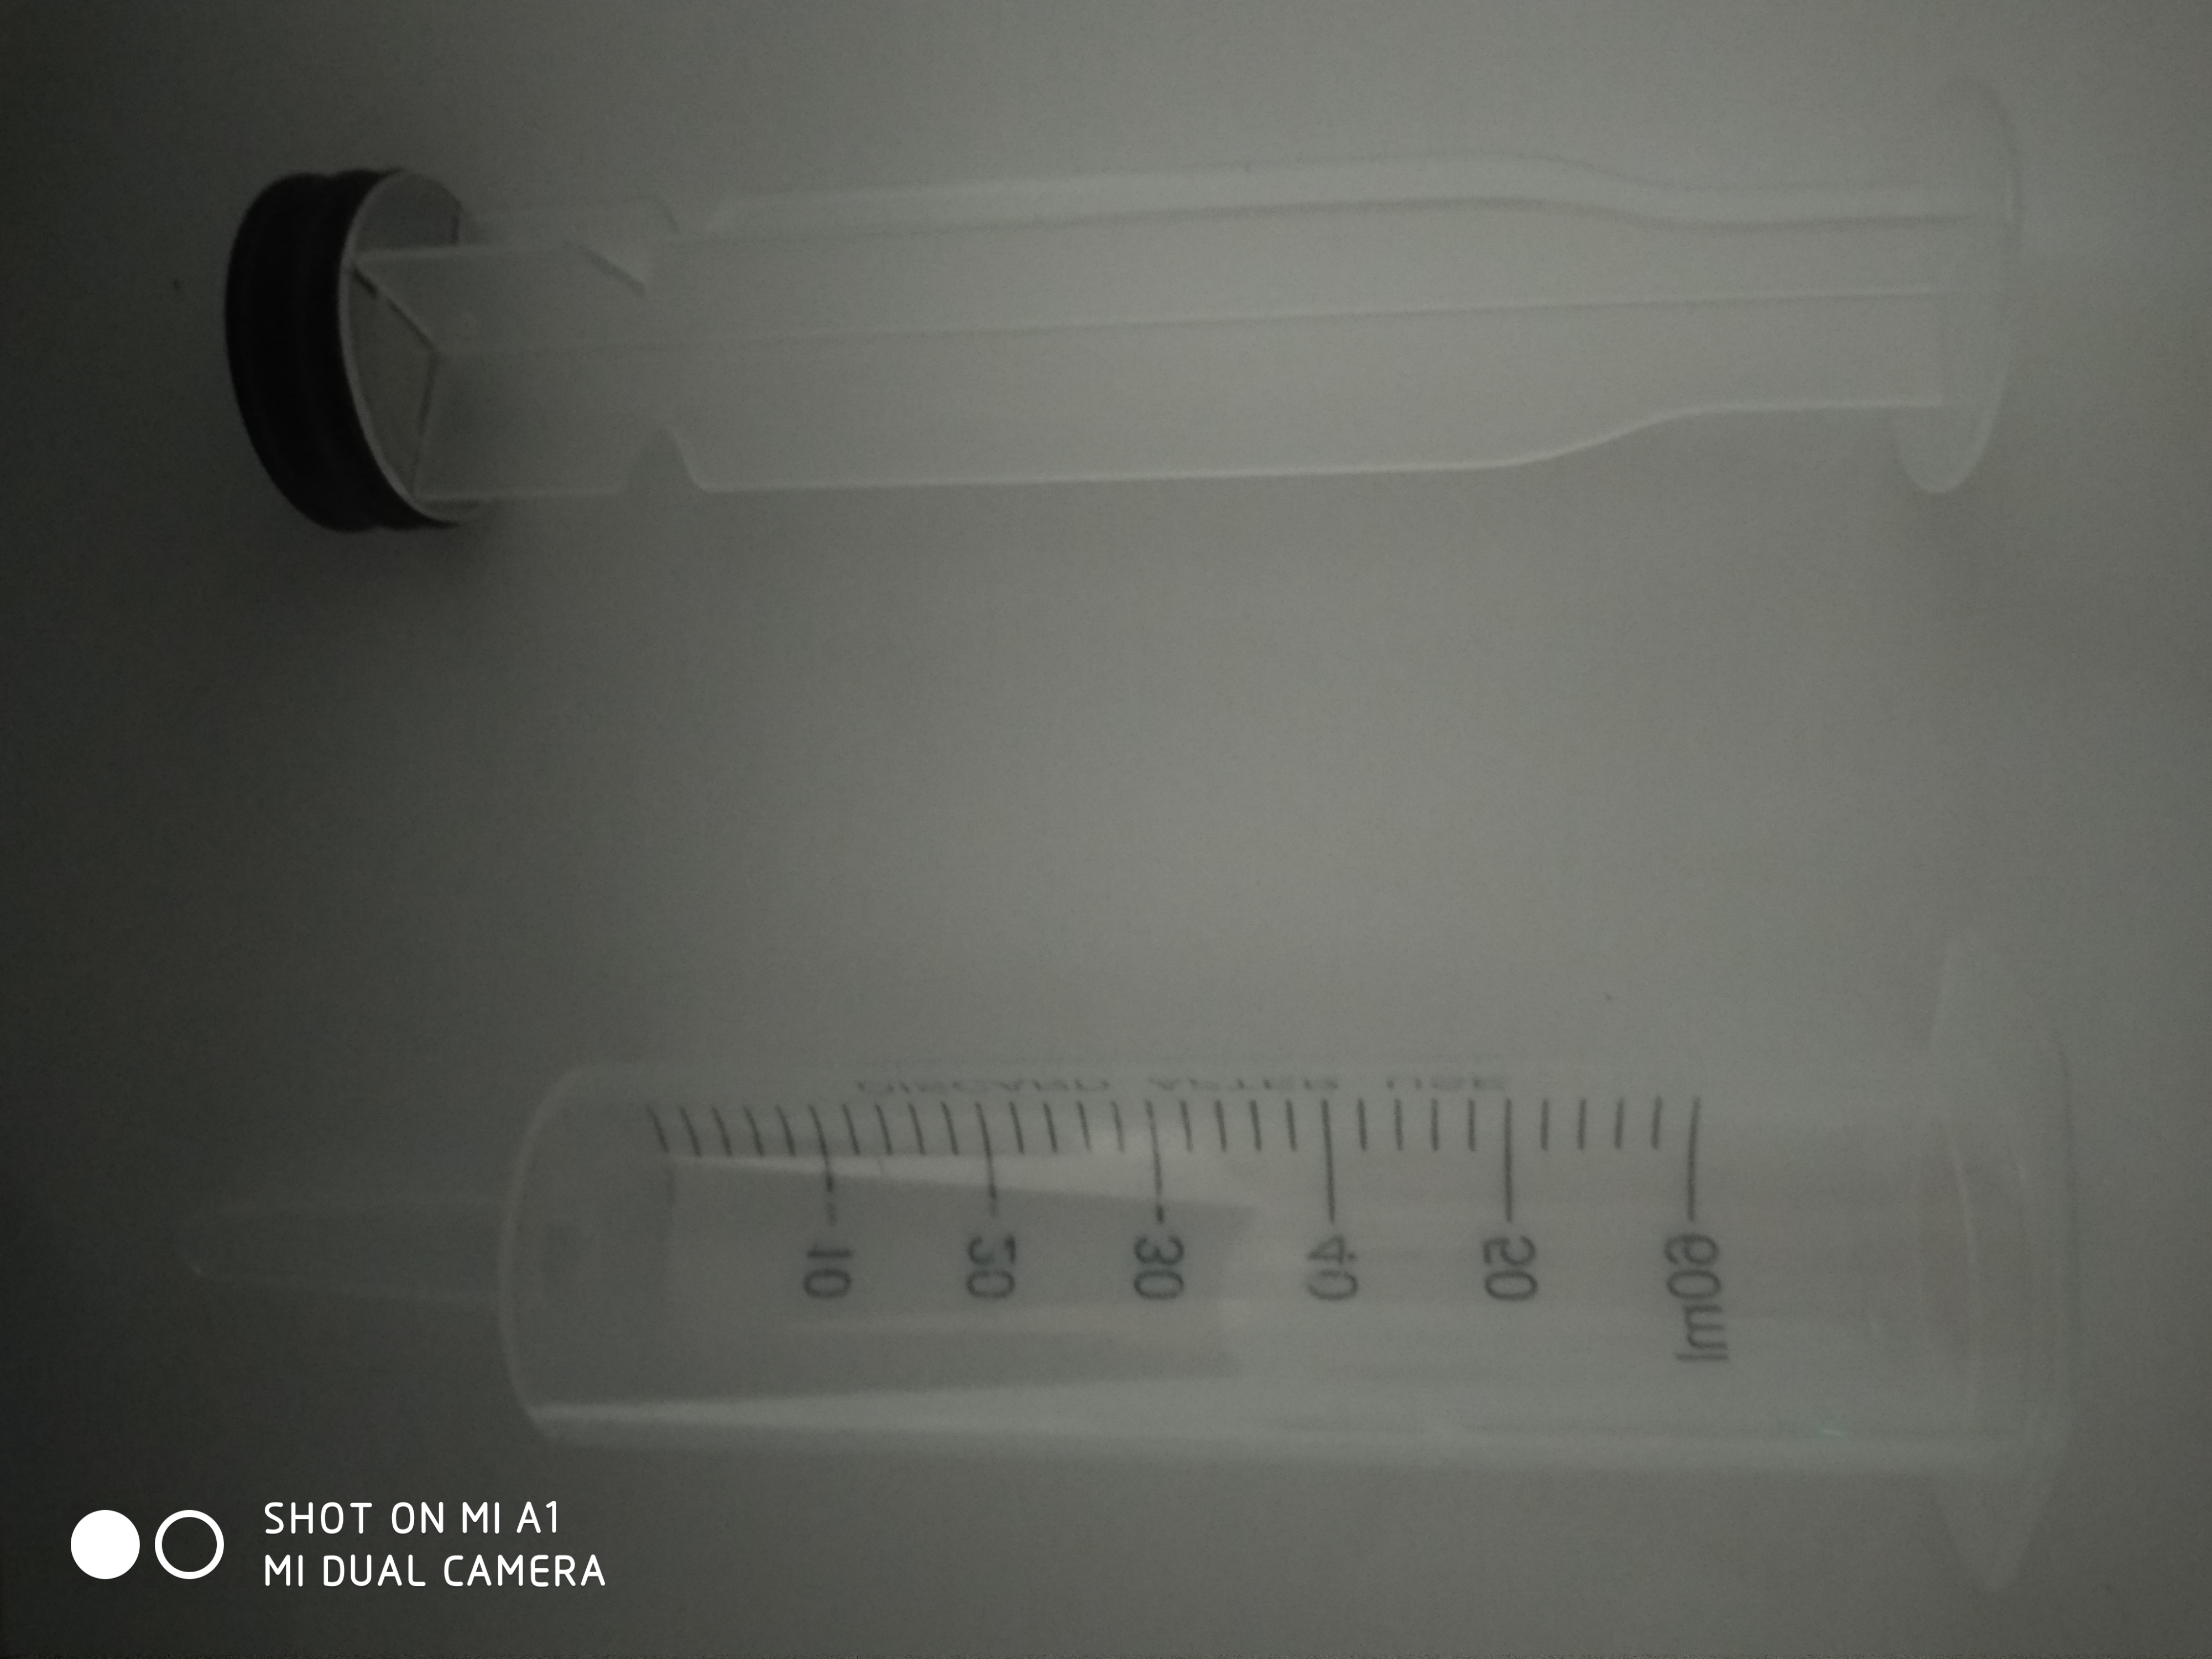plunger: (219, 68, 2055, 538)
syringe: (158, 924, 2099, 1603)
